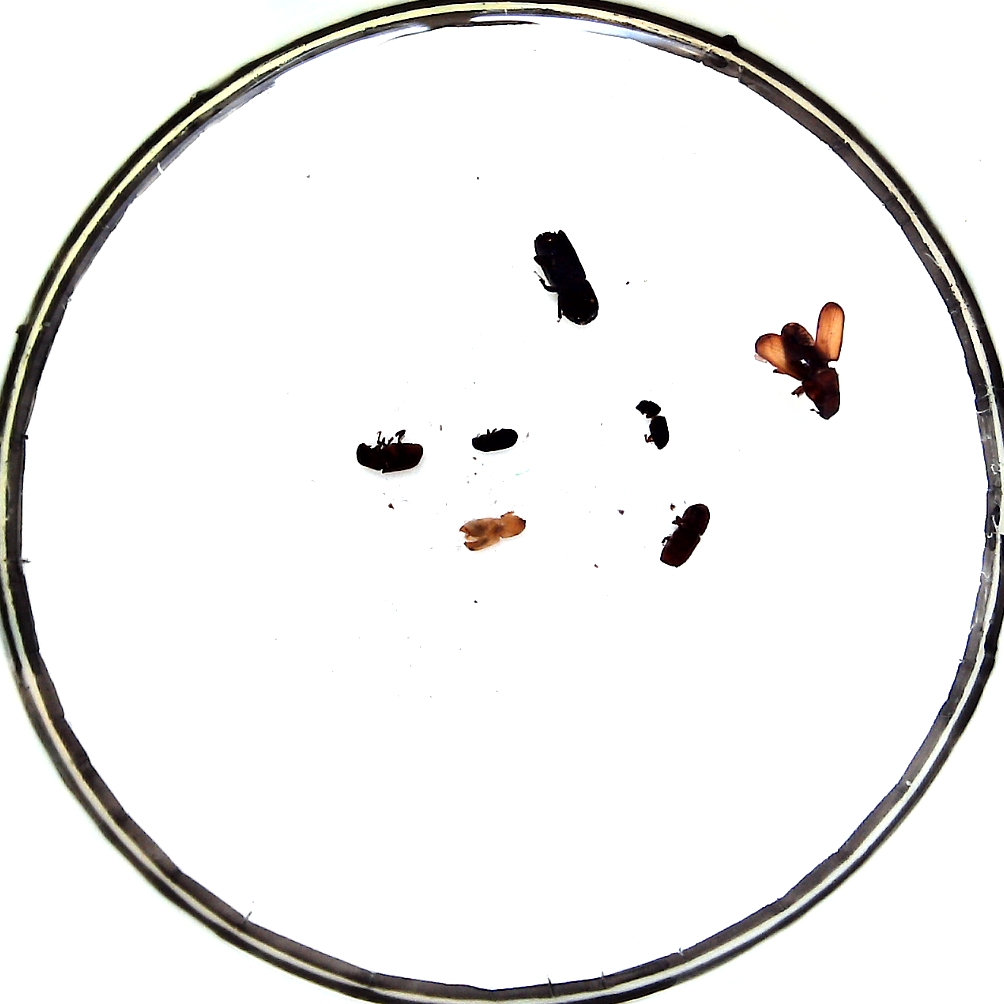Boerner: (532, 229, 599, 325)
Leconte: (781, 322, 840, 420)
acuminatus: (635, 400, 670, 450), (472, 428, 519, 452)
armandi: (356, 441, 423, 474)
coleoptera: (460, 516, 526, 551)
linnaeus: (659, 503, 710, 568)
